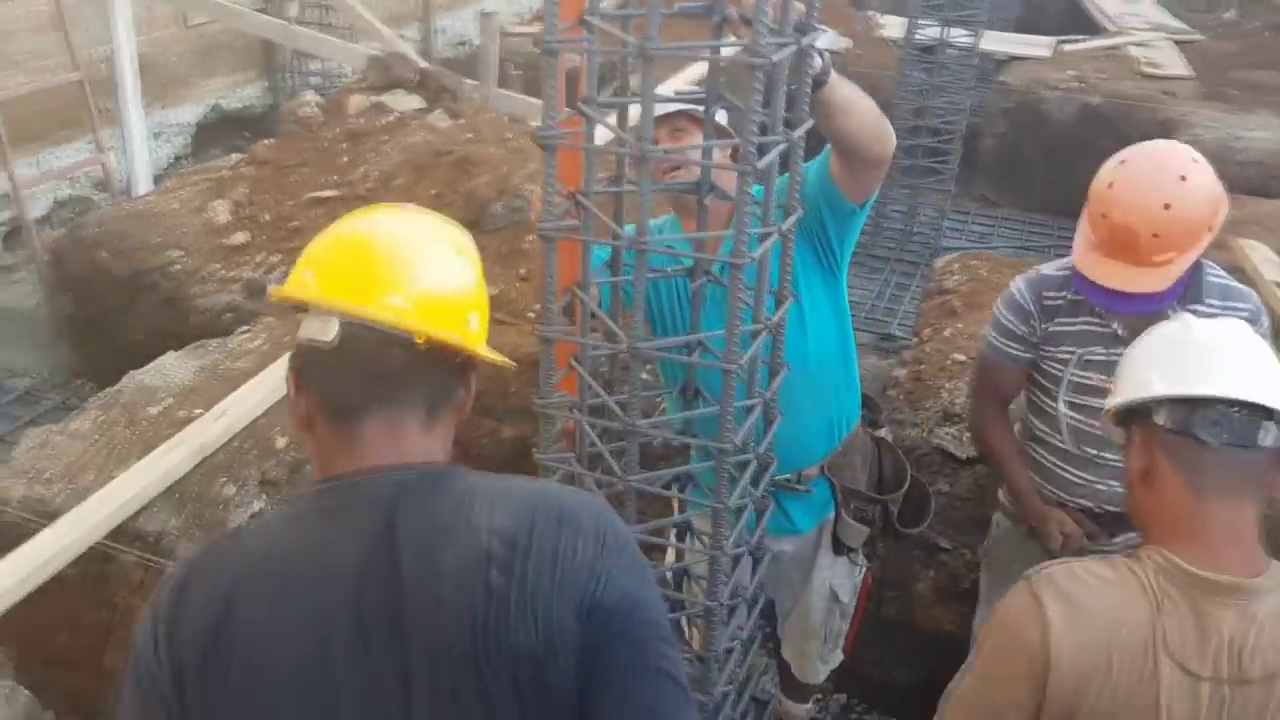helmet: (1069, 138, 1228, 298), (1101, 310, 1277, 444)
helmet-off: (629, 88, 738, 209)
helmet-on: (260, 196, 517, 485), (1102, 308, 1280, 592), (260, 195, 517, 370), (1068, 133, 1230, 317)
person: (94, 190, 683, 720), (561, 1, 901, 678), (931, 309, 1280, 720), (970, 129, 1228, 641)
